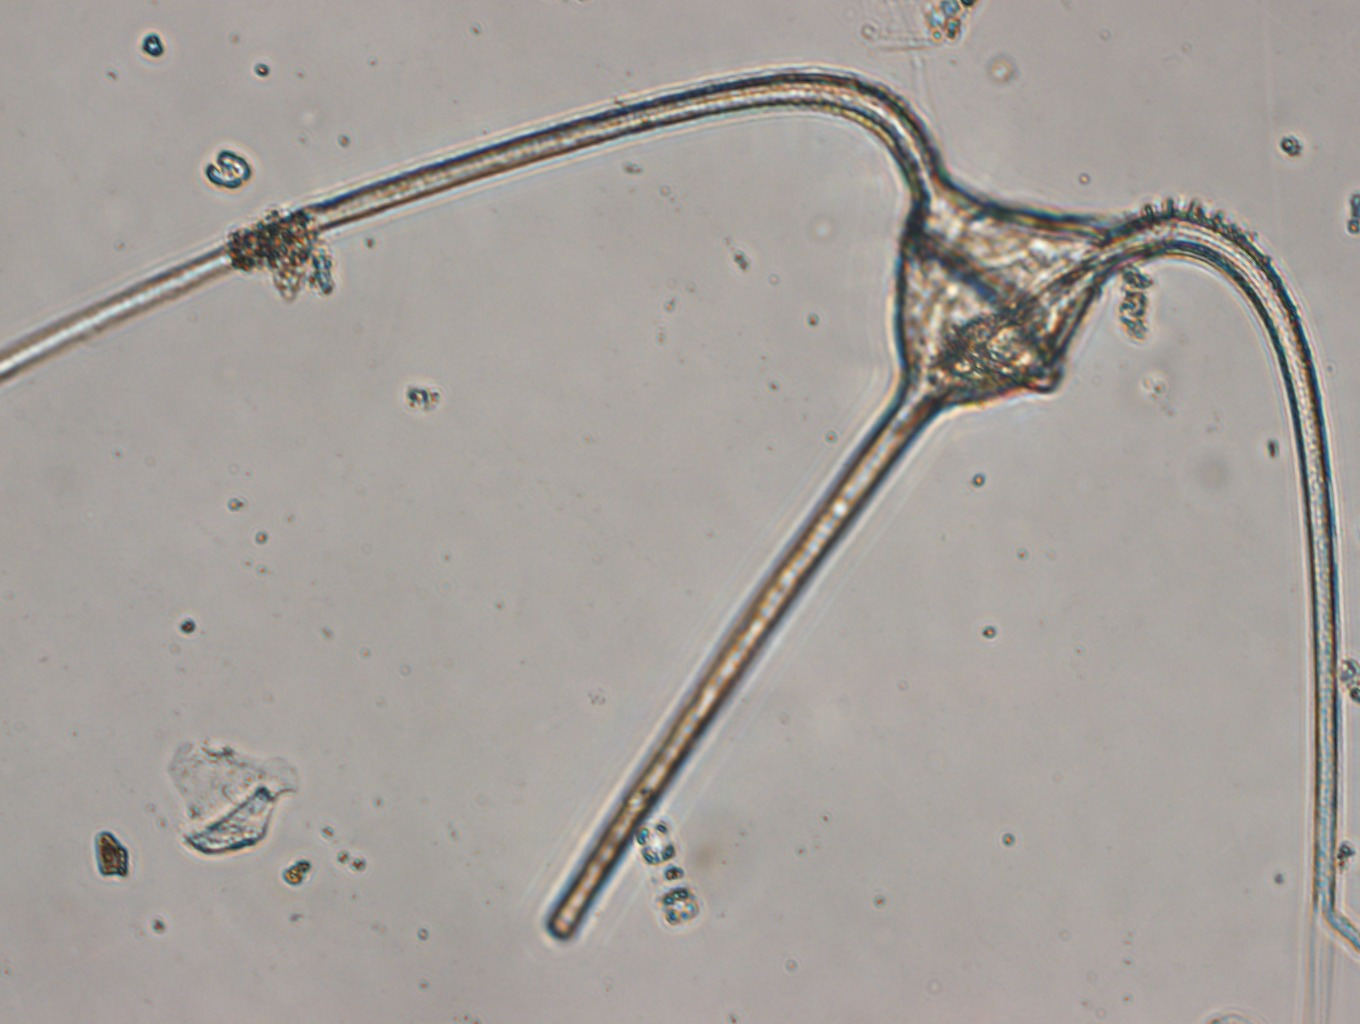ceratium trichoceros: (1, 67, 1343, 1023)
